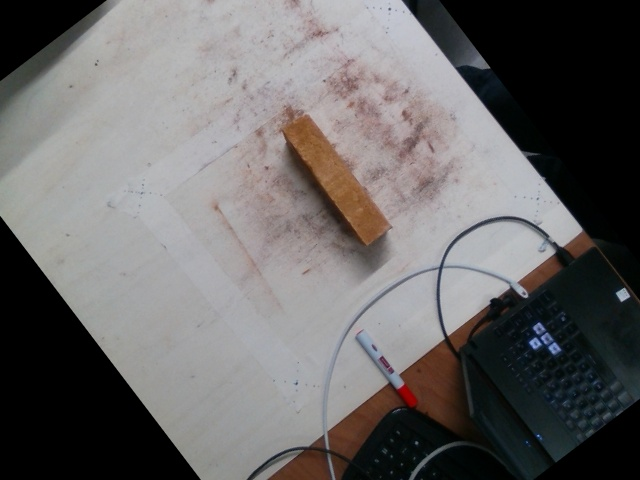brick-side: (284, 112, 388, 244)
